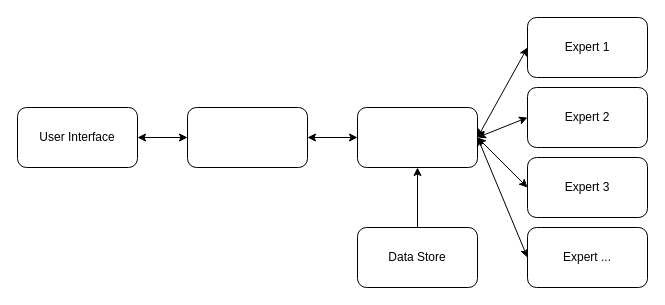
The diagram is 665 pixels wide and 305 high, and some of its shapes have lost their labels. The shapes that lost their labels are listed below. From the top down, each one's centre as x and y in pixels, then its label:
At point 247,137: "Blackboard".
At point 417,137: "Expert Controller".
